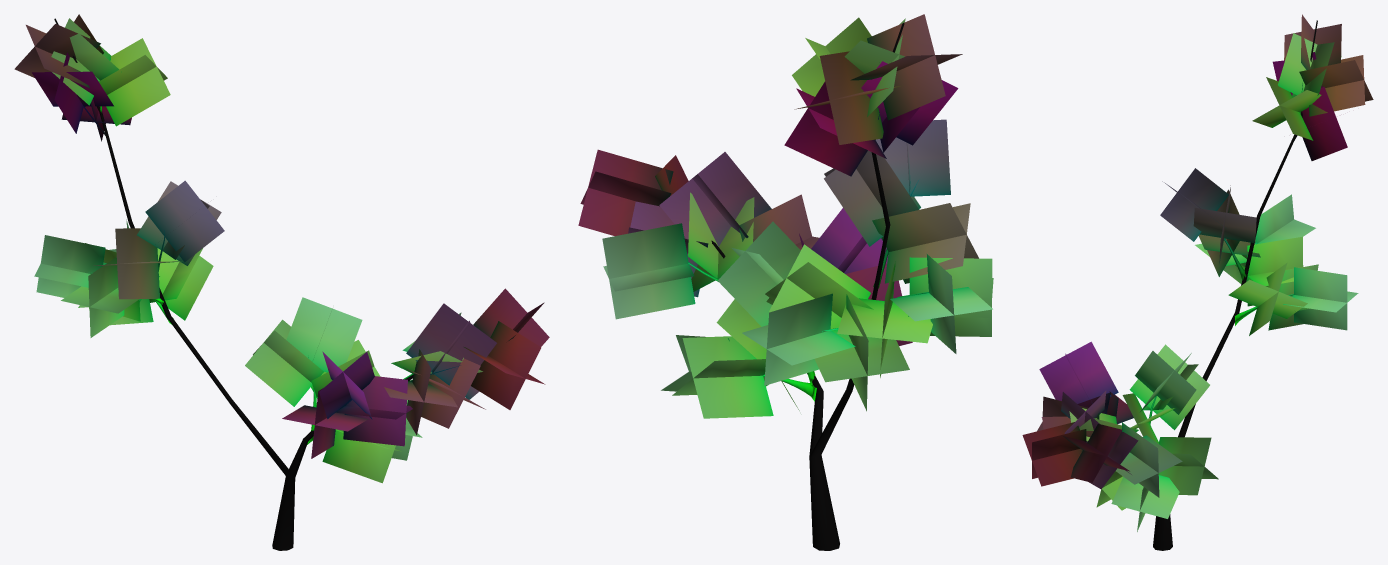
Rendered from URP_P5_Tree_9_LOD_3.fbx.
The picture shows the model from 3 angles, left to right: view 1: azimuth 30°, elevation 25°; view 2: azimuth 150°, elevation 25°; view 3: azimuth 270°, elevation 25°; orthographic projection. The views are drawn at different scales.
Parts seen in each view (by area): view 1: Tree_9_LOD_3; view 2: Tree_9_LOD_3; view 3: Tree_9_LOD_3.
Boxes of the visible parts, x1,y1,x2,y2 form: Tree_9_LOD_3: (14,14,549,550); Tree_9_LOD_3: (578,14,993,550); Tree_9_LOD_3: (1022,14,1373,550).
Size of the model in its own units: 595 by 687 by 470.
